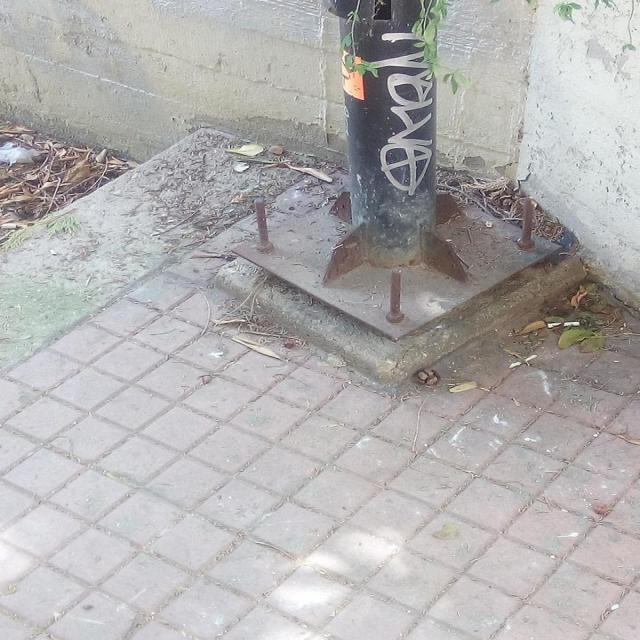nonspitting: (372, 34, 432, 196)
